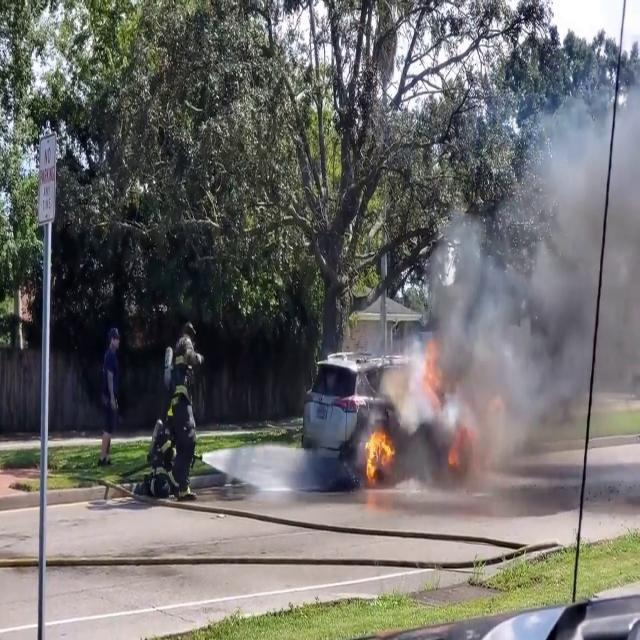Fire: (362, 419, 396, 487)
Smoke: (380, 45, 640, 498)
